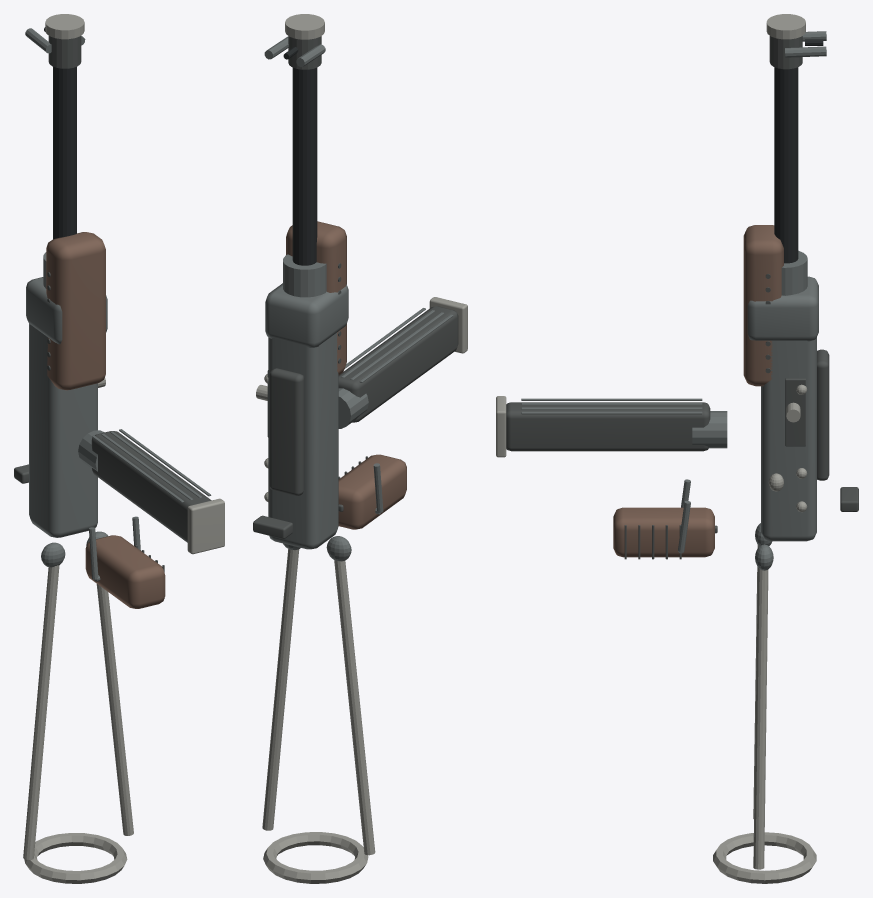
The model's file is wave22_mp40.glb.
The picture shows the model from 3 angles, left to right: view 1: azimuth 30°, elevation 25°; view 2: azimuth 150°, elevation 25°; view 3: azimuth 270°, elevation 25°; orthographic projection.
Parts seen in each view (by area): view 1: MP40 solid stamped upper receiver, MP40 original bakelite handguard, MP40 straight 9mm stick magazine, MP40 machine barrel, MP40 grooved bakelite pistol grip, MP40 rear folding stock arm -1, MP40 rear folding stock arm 1, MP40 oval steel folding butt-end, MP40 magazine steel follower, MP40 receiver front band, MP40 muzzle brake, MP40 front barrel lip (+2 smaller); view 2: MP40 solid stamped upper receiver, MP40 straight 9mm stick magazine, MP40 machine barrel, MP40 bolt housing, MP40 receiver front band, MP40 grooved bakelite pistol grip, MP40 rear folding stock arm -1, MP40 rear folding stock arm 1, MP40 oval steel folding butt-end, MP40 original bakelite handguard, MP40 barrel retaining cuff, MP40 front barrel lip (+5 smaller); view 3: MP40 solid stamped upper receiver, MP40 straight 9mm stick magazine, MP40 machine barrel, MP40 grooved bakelite pistol grip, MP40 original bakelite handguard, MP40 rear folding stock arm 1, MP40 receiver front band, MP40 oval steel folding butt-end, MP40 bolt housing, MP40 machined ejection port, MP40 magazine neck, MP40 barrel retaining cuff (+3 smaller).
Part boxes in pixels (x1,y1,x2,y2): MP40 solid stamped upper receiver: (29,324,97,537); MP40 original bakelite handguard: (46,232,105,390); MP40 straight 9mm stick magazine: (91,431,211,542); MP40 machine barrel: (53,66,76,239); MP40 grooved bakelite pistol grip: (85,535,165,608); MP40 rear folding stock arm -1: (23,565,59,859); MP40 rear folding stock arm 1: (96,584,133,835); MP40 oval steel folding butt-end: (24,833,127,883); MP40 magazine steel follower: (187,498,224,554); MP40 receiver front band: (26,277,107,344); MP40 muzzle brake: (48,36,81,68); MP40 front barrel lip: (45,14,84,39); MP40 solid stamped upper receiver: (268,332,338,549); MP40 straight 9mm stick magazine: (338,306,458,422); MP40 machine barrel: (292,67,317,265); MP40 bolt housing: (269,368,304,495); MP40 receiver front band: (265,283,348,347); MP40 grooved bakelite pistol grip: (338,454,406,529); MP40 rear folding stock arm -1: (334,560,375,855); MP40 rear folding stock arm 1: (262,549,299,830); MP40 oval steel folding butt-end: (263,832,368,883); MP40 original bakelite handguard: (286,221,346,375); MP40 barrel retaining cuff: (283,254,326,297); MP40 front barrel lip: (285,14,324,39); MP40 solid stamped upper receiver: (761,337,816,541); MP40 straight 9mm stick magazine: (506,402,710,451); MP40 machine barrel: (774,67,798,263); MP40 grooved bakelite pistol grip: (613,507,714,557); MP40 original bakelite handguard: (743,225,783,386); MP40 rear folding stock arm 1: (753,567,768,869); MP40 receiver front band: (747,276,818,341); MP40 oval steel folding butt-end: (713,832,816,883); MP40 bolt housing: (817,349,829,480); MP40 machined ejection port: (785,378,805,446); MP40 magazine neck: (692,411,727,448); MP40 barrel retaining cuff: (781,250,807,295).
Bounding box in the file's own units: 0.2317 × 1.69 × 0.6595.
